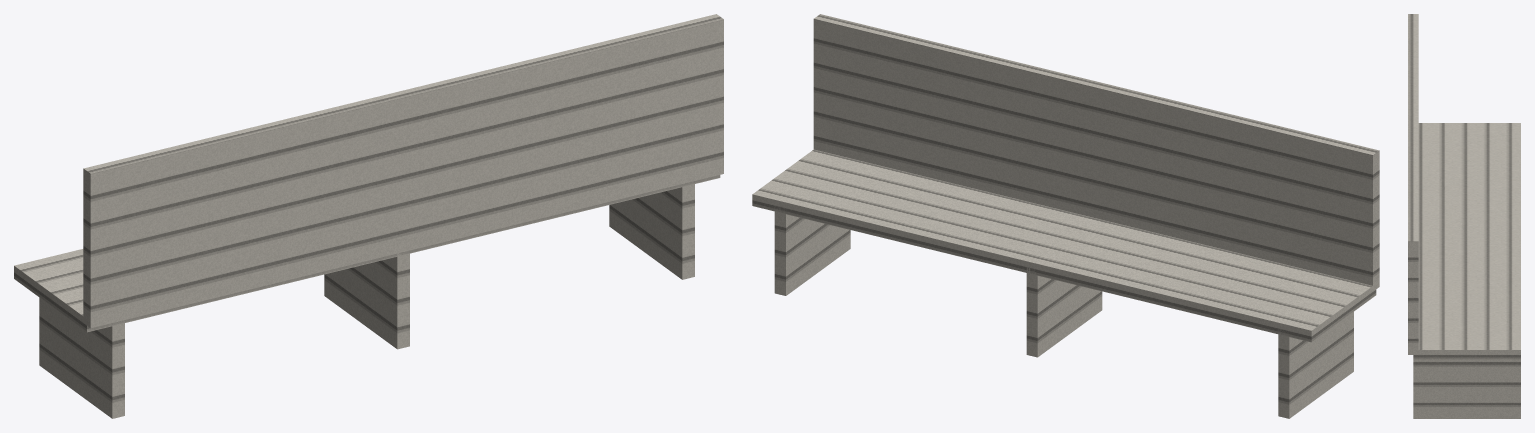
File: theater_seating_row.glb
3 views of the same model, side by side, from view 1: azimuth 30°, elevation 25°; view 2: azimuth 150°, elevation 25°; view 3: azimuth 270°, elevation 25° (orthographic). The views are drawn at different scales.
Visible parts, largest first — view 1: theater_seating_row-col; view 2: theater_seating_row-col; view 3: theater_seating_row-col.
Boxes of the visible parts, x1=… form: theater_seating_row-col: x1=14, y1=14, x2=723, y2=418; theater_seating_row-col: x1=752, y1=14, x2=1379, y2=418; theater_seating_row-col: x1=1408, y1=14, x2=1520, y2=418.
Bounding box in the file's own units: 3 × 1.15 × 0.63.
Materials: 1 (1 with a texture image).
